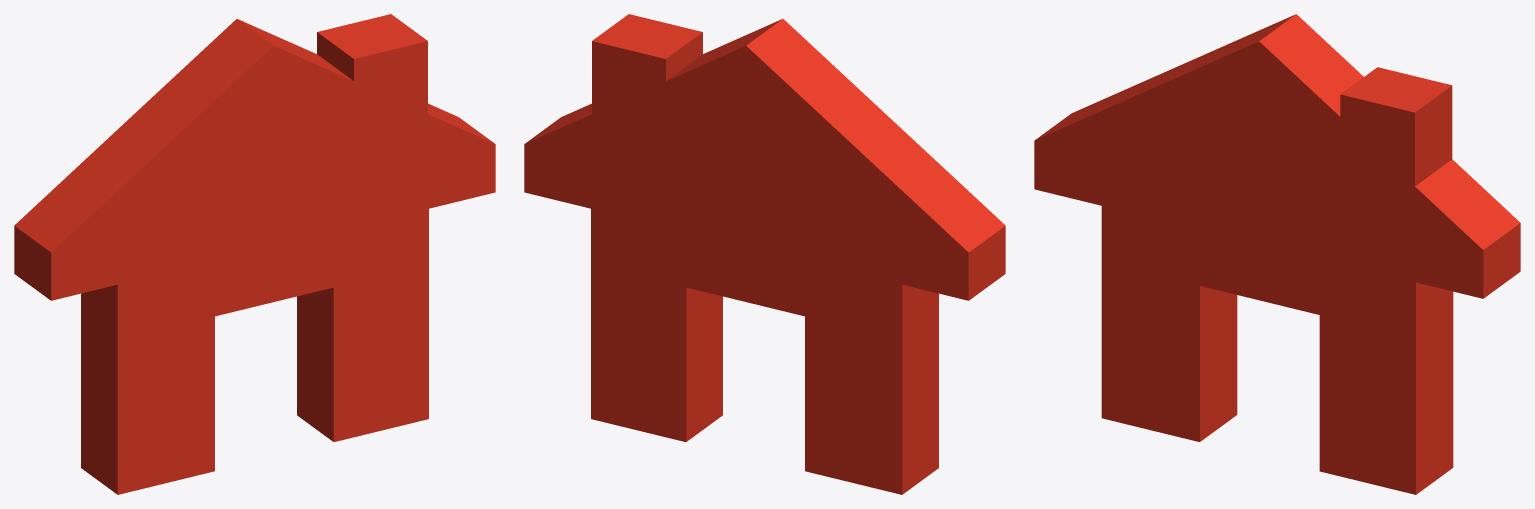
The model's file is Icon_House_02.fbx.
3 renders of one model, left to right at view 1: azimuth 30°, elevation 25°; view 2: azimuth 150°, elevation 25°; view 3: azimuth 330°, elevation 25°, orthographic.
Parts seen in each view (by area): view 1: Icon_House_02; view 2: Icon_House_02; view 3: Icon_House_02.
Boxes of the visible parts, x1,y1,x2,y2 form: Icon_House_02: (14, 14, 495, 494); Icon_House_02: (524, 14, 1005, 494); Icon_House_02: (1034, 14, 1520, 494).
Bounding box in the file's own units: 83.77 × 74.05 × 12.06.
